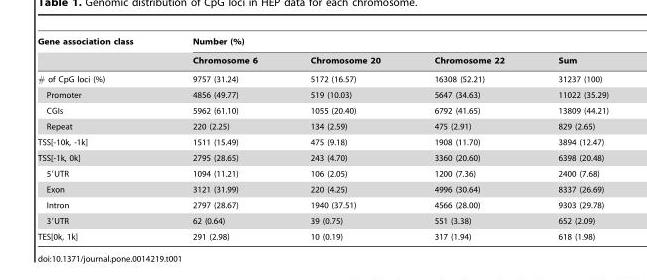table: (37, 36, 607, 240)
table column: (37, 36, 162, 240), (406, 36, 530, 240), (283, 36, 406, 240), (162, 36, 283, 240), (530, 36, 607, 240)
table column header: (37, 36, 607, 69)
table row: (37, 50, 607, 69), (37, 69, 607, 86), (37, 86, 607, 102), (37, 102, 607, 118), (37, 118, 607, 134), (37, 149, 607, 165), (37, 165, 607, 181), (37, 181, 607, 197), (37, 212, 607, 228), (37, 134, 607, 149), (37, 197, 607, 212), (37, 36, 607, 50), (37, 228, 607, 240)
table spanning cell: (162, 36, 607, 50), (37, 36, 162, 69)
